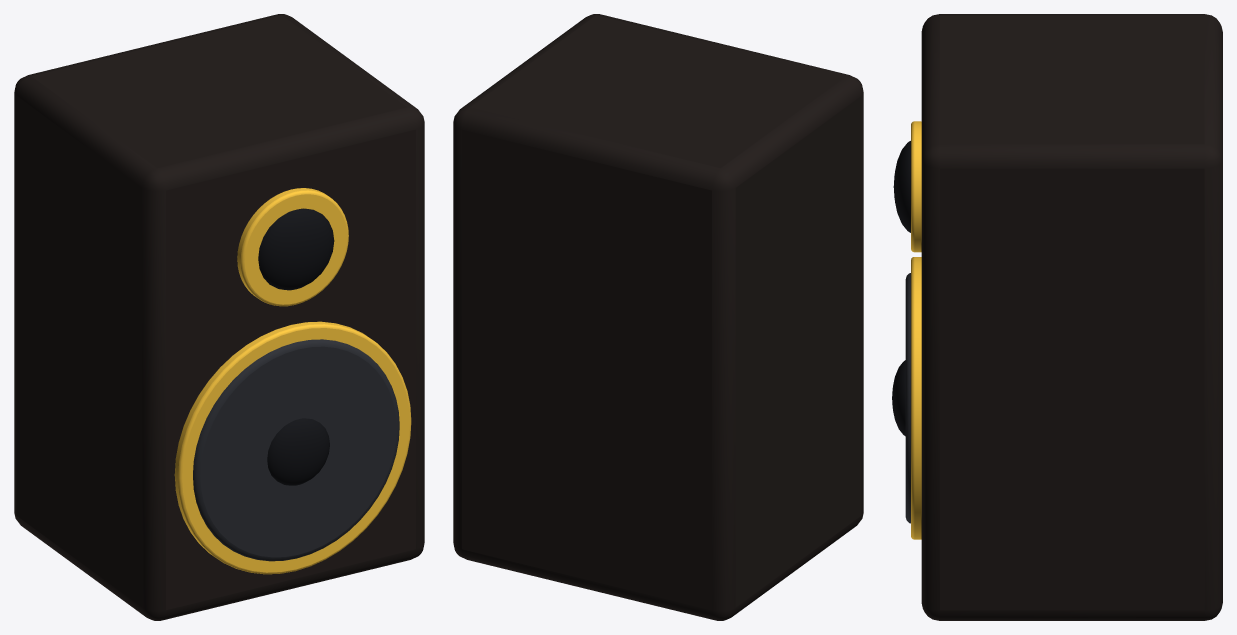
The model's file is speaker.glb.
3 renders of one model, left to right at view 1: azimuth 30°, elevation 25°; view 2: azimuth 150°, elevation 25°; view 3: azimuth 270°, elevation 25°, orthographic. The views are drawn at different scales.
Parts seen in each view (by area): view 1: cab, woofer, woofer_ring, tweet_ring, tweeter, dust; view 2: cab; view 3: cab, woofer_ring, woofer, tweet_ring, tweeter, dust.
Part boxes in pixels (x1,y1,x2,y2): cab: (14,14,424,620); woofer: (193,339,399,561); woofer_ring: (174,321,411,574); tweet_ring: (237,188,348,306); tweeter: (258,208,334,290); dust: (267,418,329,485); cab: (453,14,863,620); cab: (921,14,1222,620); woofer_ring: (911,257,921,539); woofer: (905,273,910,523); tweet_ring: (911,121,921,252); tweeter: (893,141,910,232); dust: (892,360,905,436).
Size of the model in its own units: 1.3 by 2 by 1.26.
